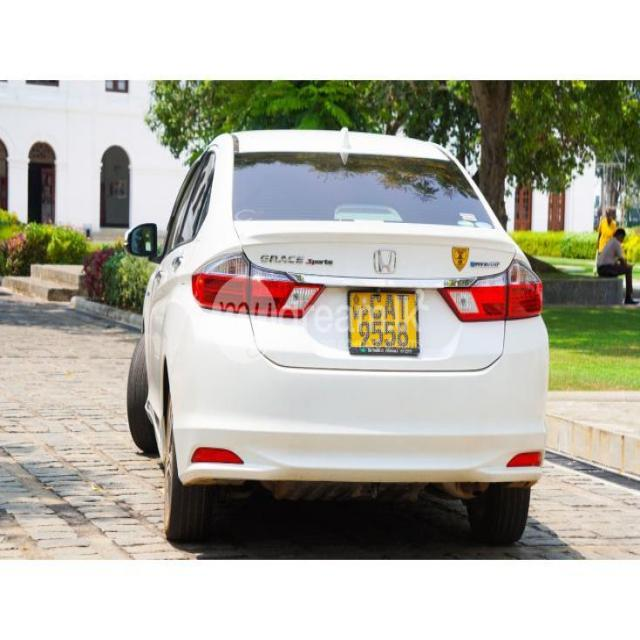license-plate: (348, 290, 416, 345)
